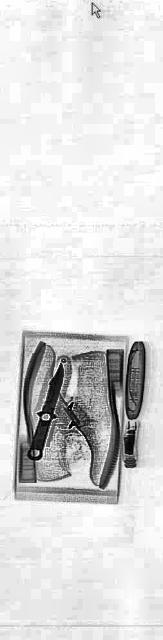Knife: (25, 339, 66, 488)
